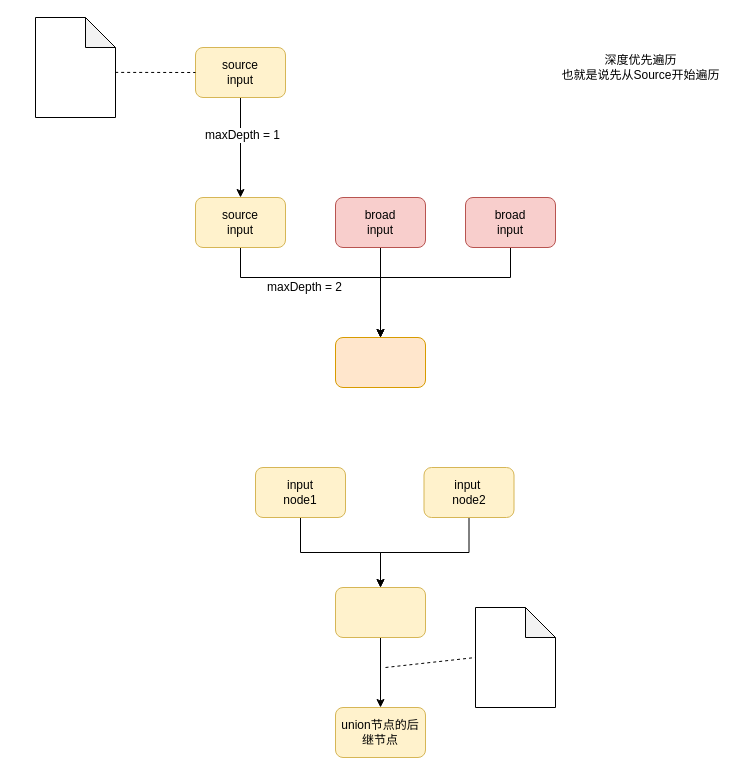
Some shapes in this 743 by 775 pixel diagram are drawn without their labels. Each missing label, with the centre of its shape:
"estimatedOutputSize estimatedNumRecord" goes at point 75,67.
"Sink target" goes at point 380,362.
"union node" goes at point 380,612.
"并行都和后继节点保持一致 传输模式为FORWARD" goes at point 515,657.
